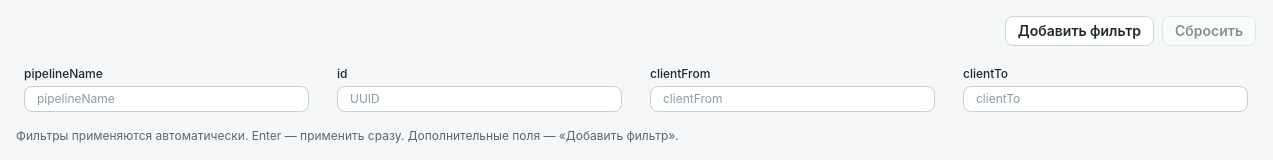
usable filters › reset cancels pending drafts
Type "pending" into the field labelled "id" at (480, 99), box [337,86,622,112]
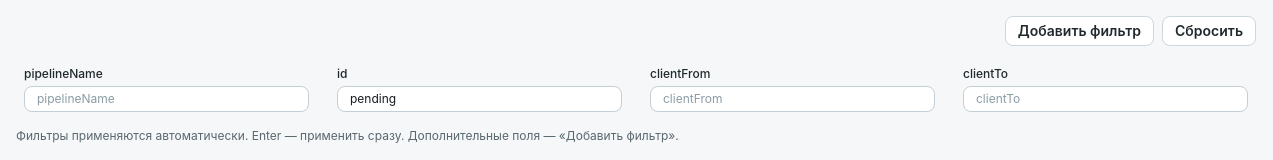
Click the button with aria-label "Сбросить фильтры" at (1209, 31), box [1162,16,1256,46]
Wait 1500 ms
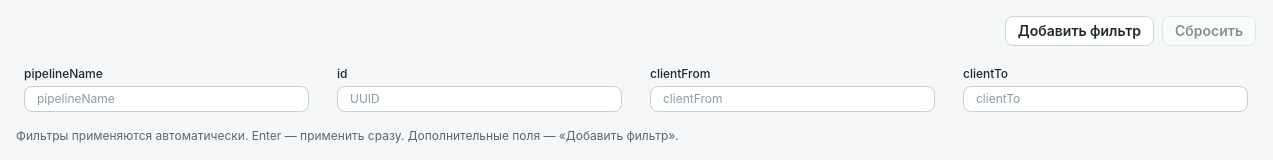
Check: the field labelled "id" is empty, box [337,86,622,112]
